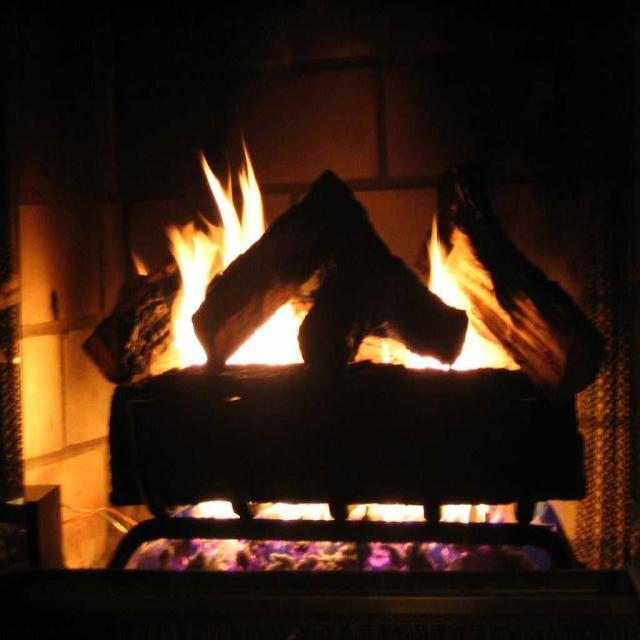Fire: (264, 503, 522, 530), (255, 320, 300, 367), (180, 232, 210, 288), (178, 294, 198, 368), (465, 333, 500, 370)
